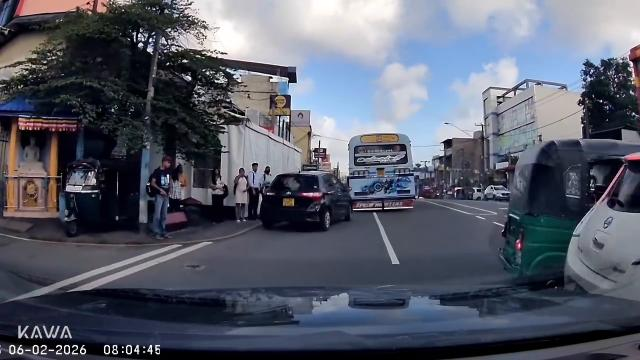number plate: (280, 197, 298, 210)
